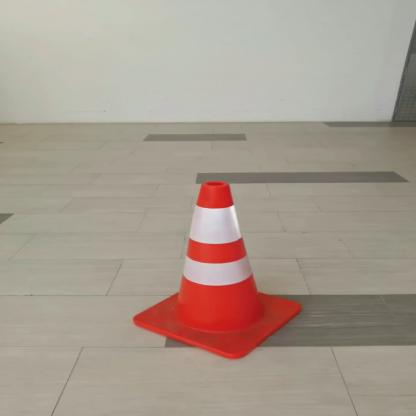cone: (124, 173, 308, 369)
